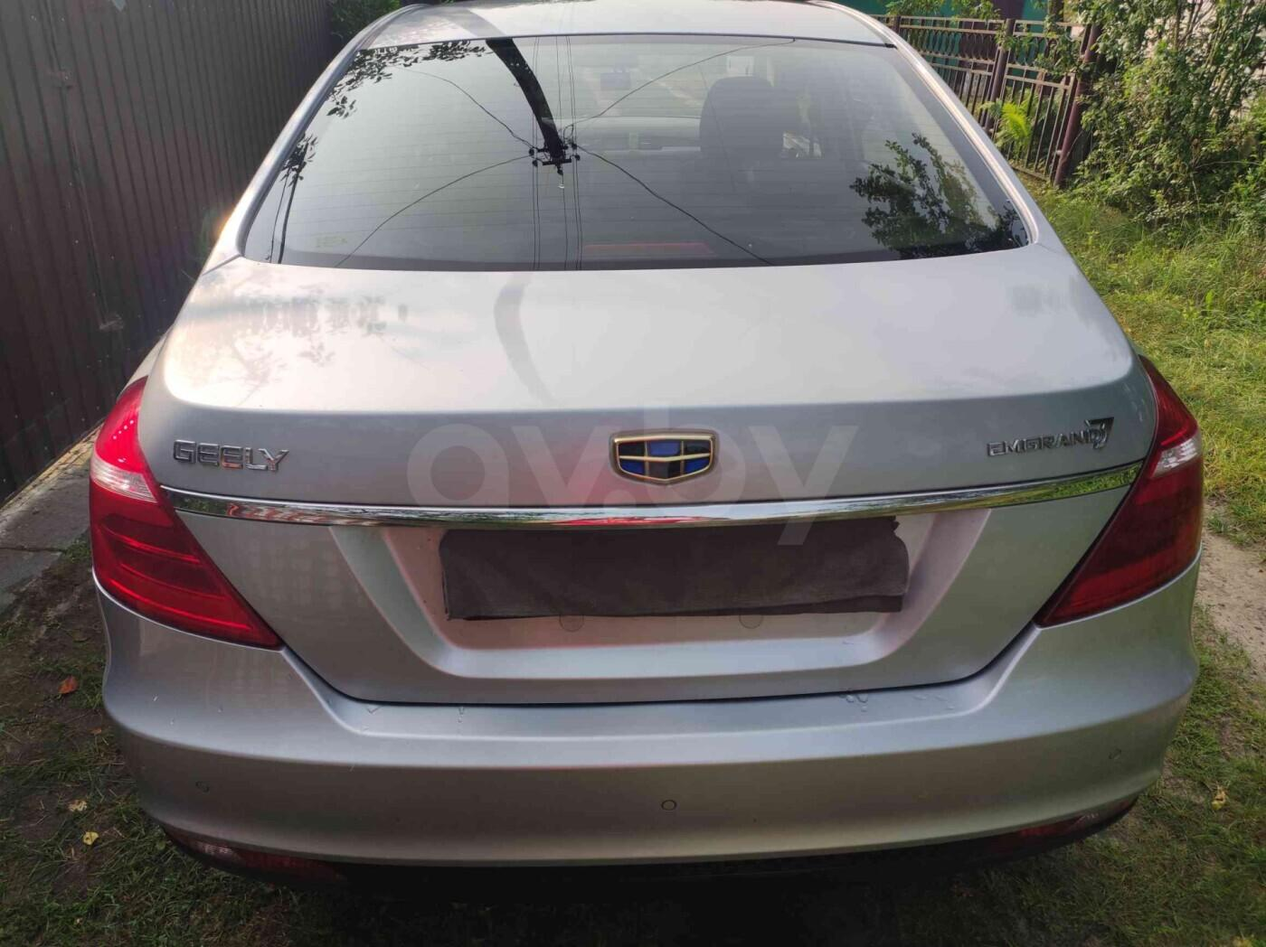Emgrand_2019-2021: (88, 0, 1205, 891)
